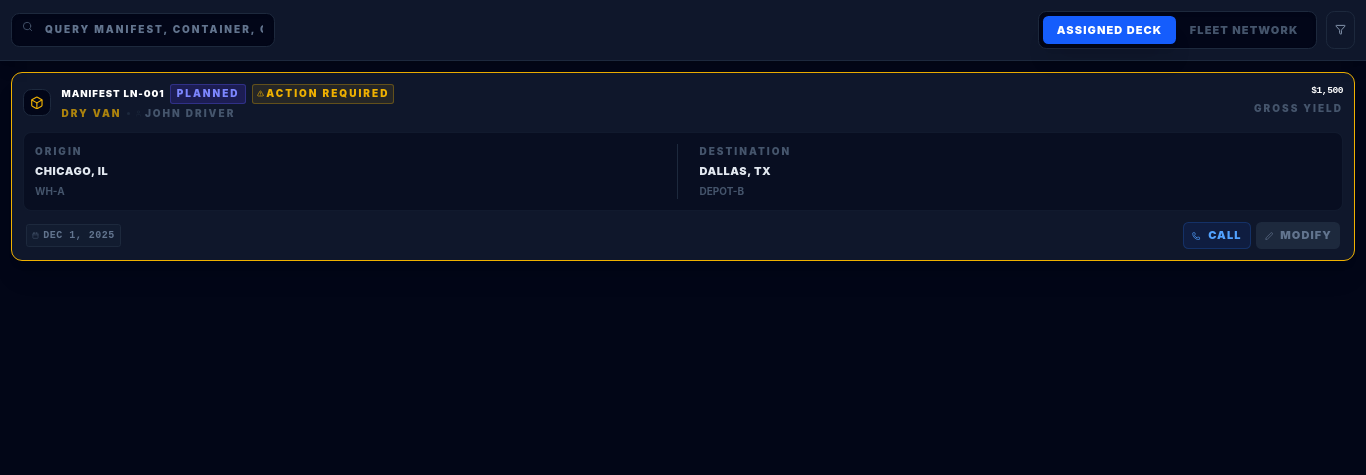
Test: LoadList coverage — lines 82-86, 100, 160-165 › renders container and chassis numbers for intermodal loads
Click the button "Fleet Network": (1244, 30) [1176,16,1312,44]
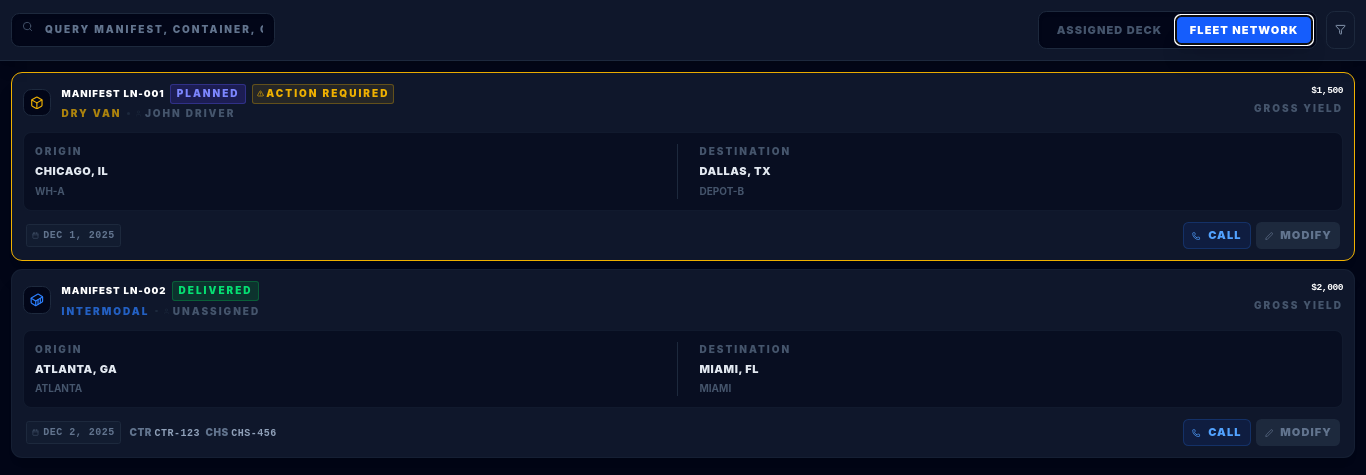
Expected: the text "CTR-123" is shown, [154,428,200,439]
Expected: the text "CHS-456" is shown, [231,428,277,439]
